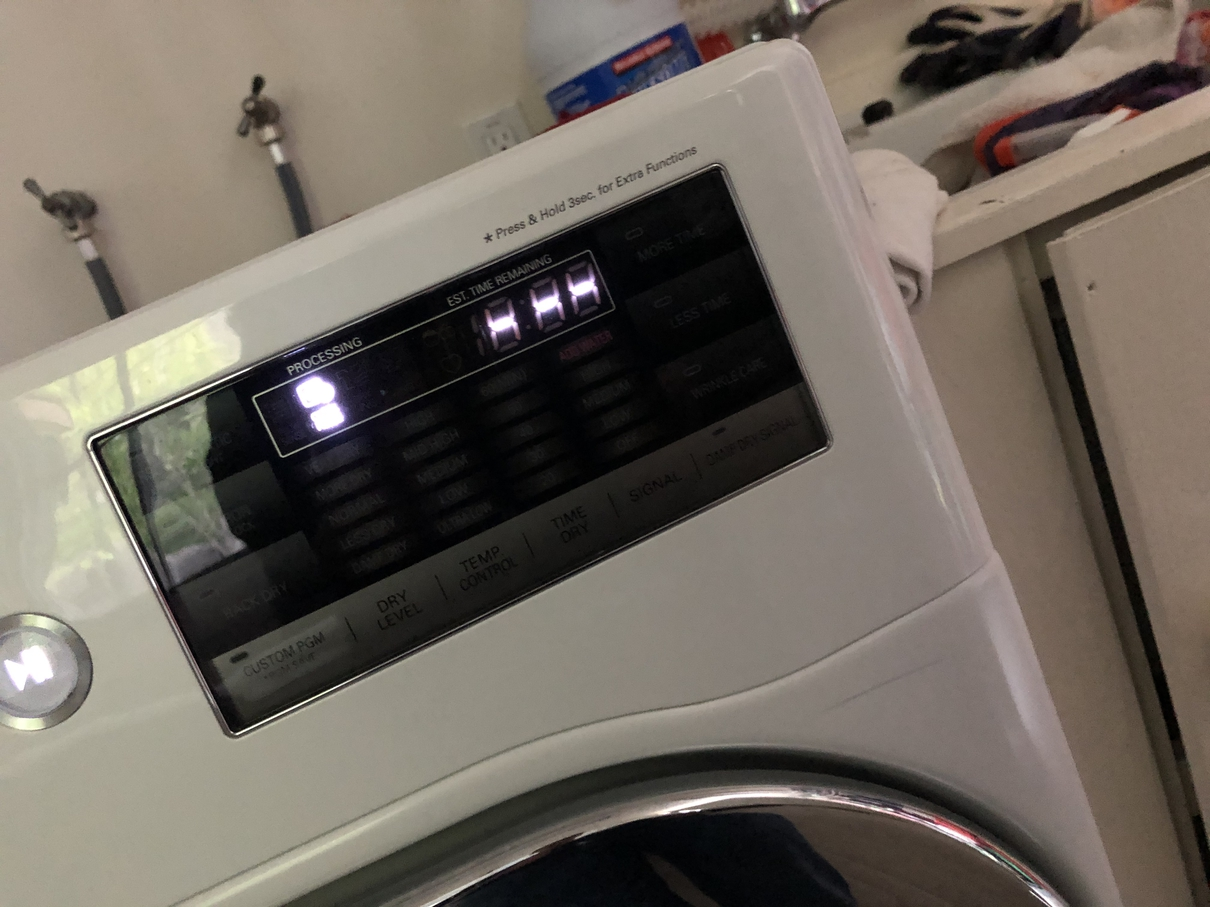status: (211, 243, 659, 465)
